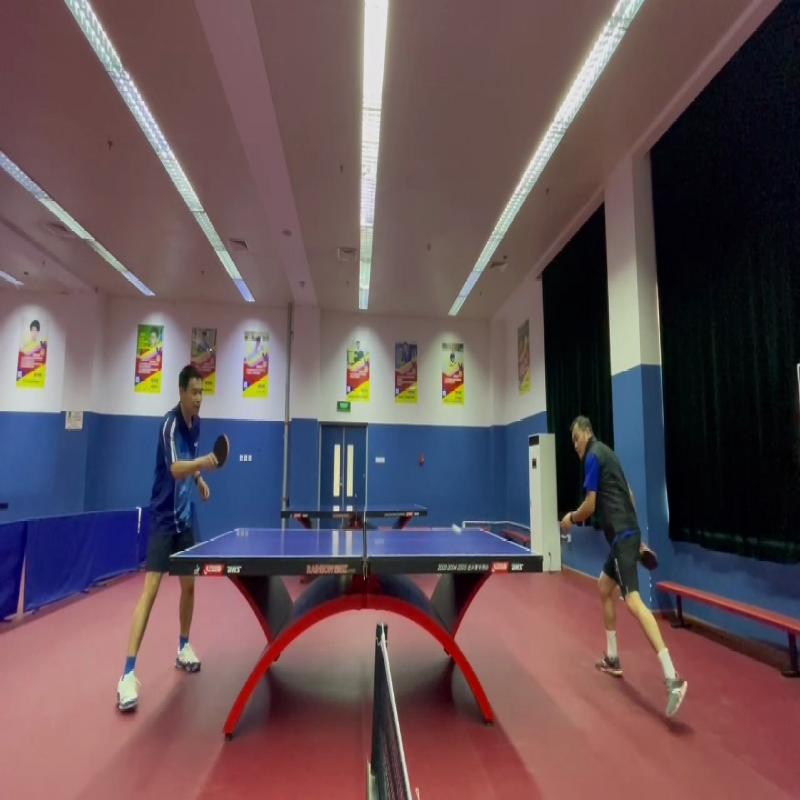bats: (205, 426, 236, 476), (200, 415, 201, 416)
